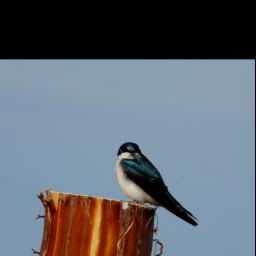Swallow: (108, 140, 210, 229)
